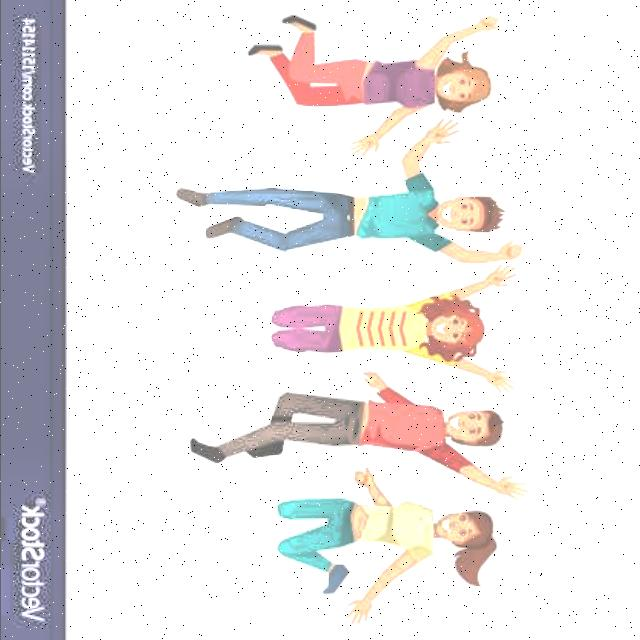happy: (429, 394, 516, 454), (418, 296, 493, 365), (426, 46, 498, 116), (425, 184, 505, 240), (430, 502, 506, 555)
